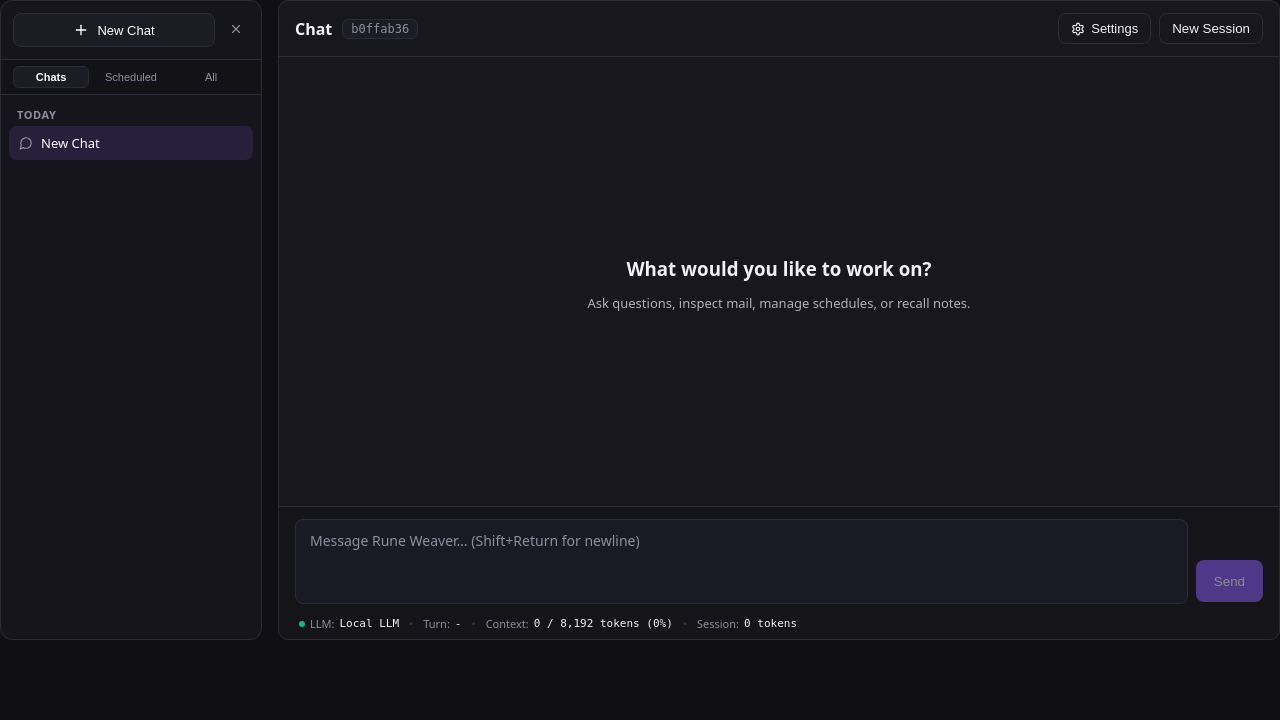
Test: ChatView › ignores untagged session frames to prevent cross-session leakage
In the text box named "Chat input": [741, 562] box [295,519,1188,604], type "hello"
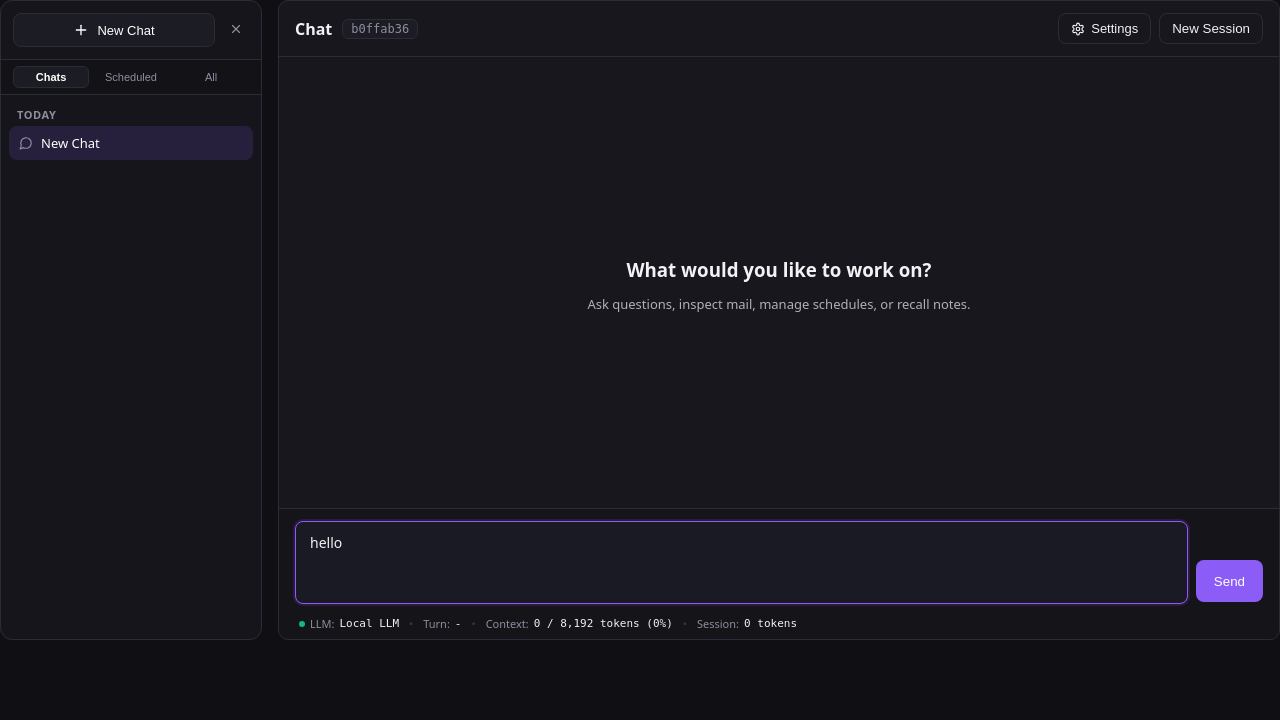
Click the button "Send": [1229, 581] box [1196,560,1263,602]
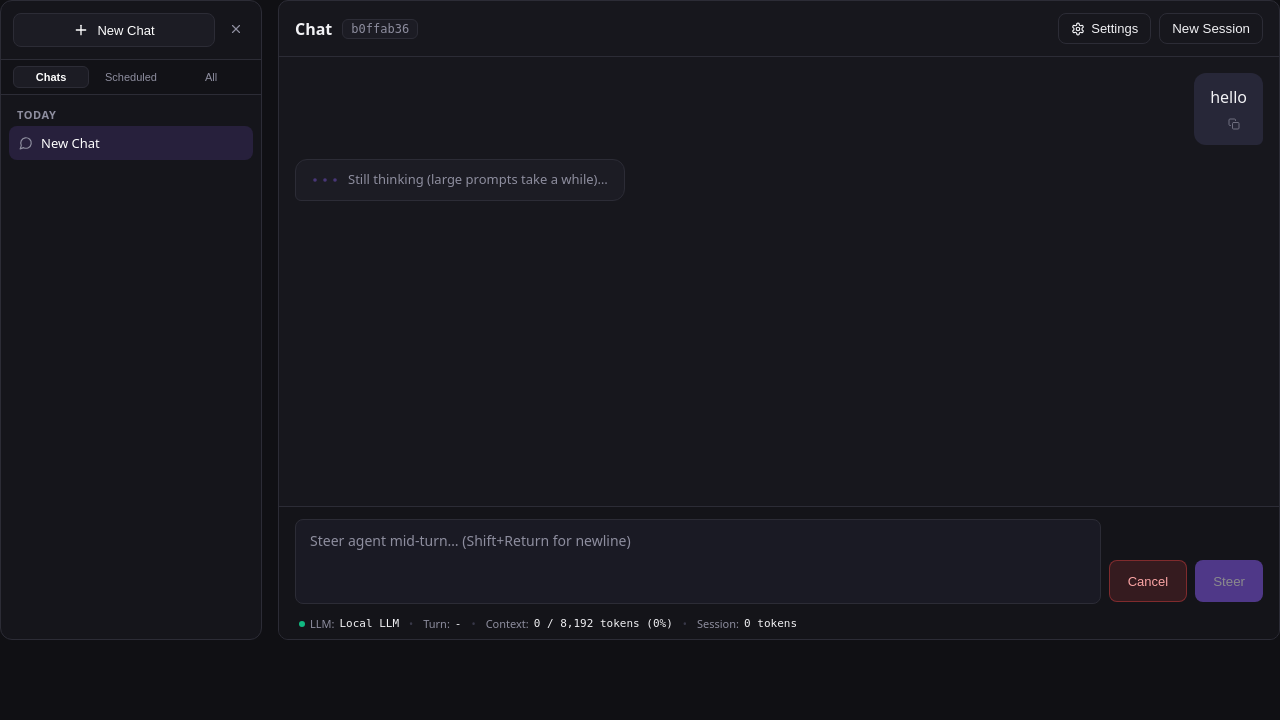
Expected: the button with aria-label "Cancel turn" is shown, [1109,560,1187,602]
